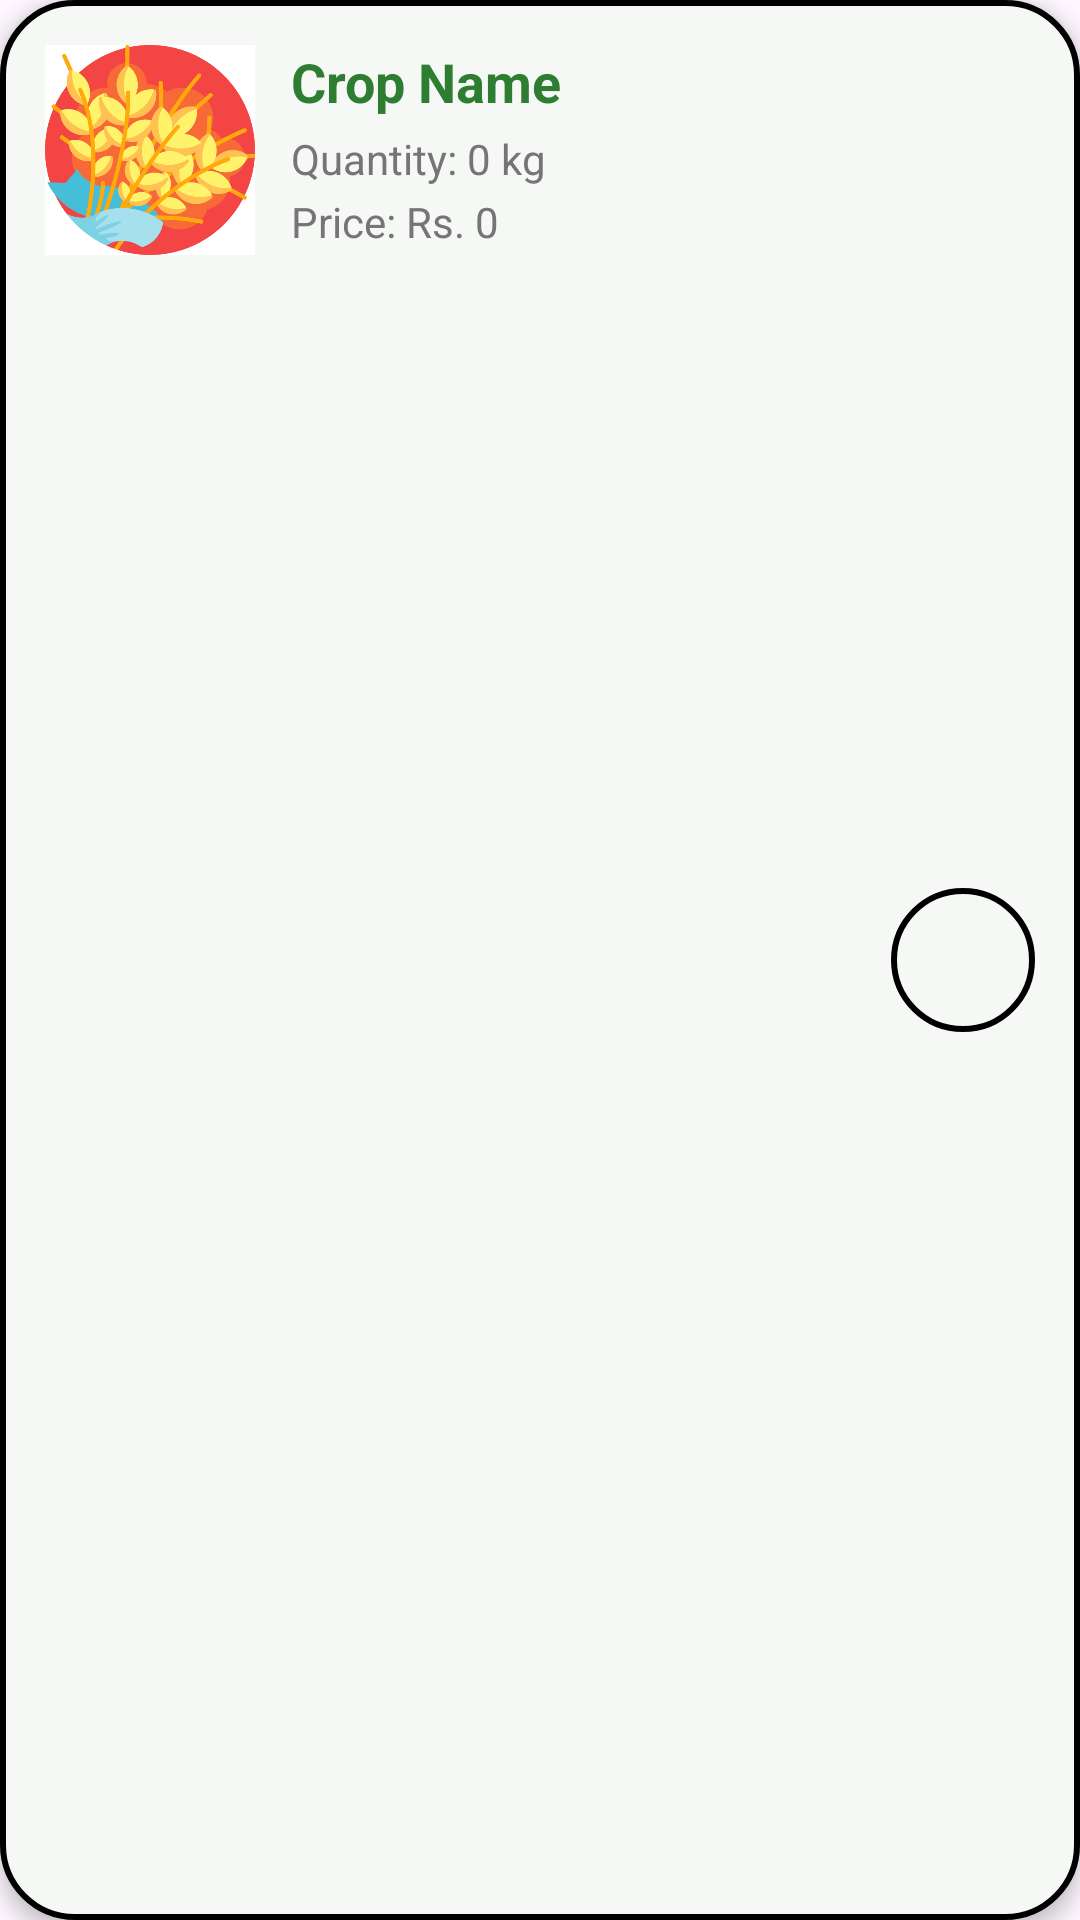

Icon bounding boxes for this 1080px×1920px phone screenshot, format (x1=x1, y1=y1, x2=x2, y2=y2):
wheat: (x1=45, y1=45, x2=255, y2=255)
